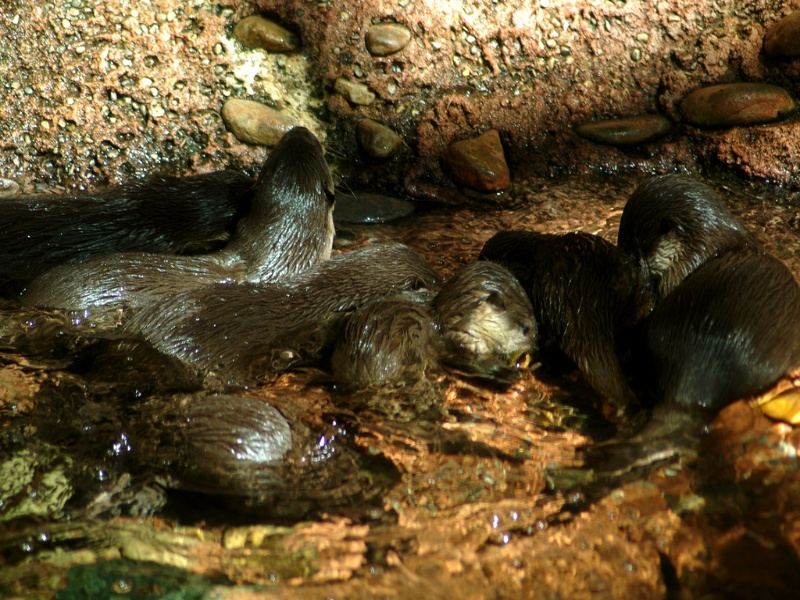minkish: (22, 125, 336, 352), (137, 232, 453, 392), (622, 172, 800, 437), (476, 221, 645, 436), (340, 253, 533, 405)
